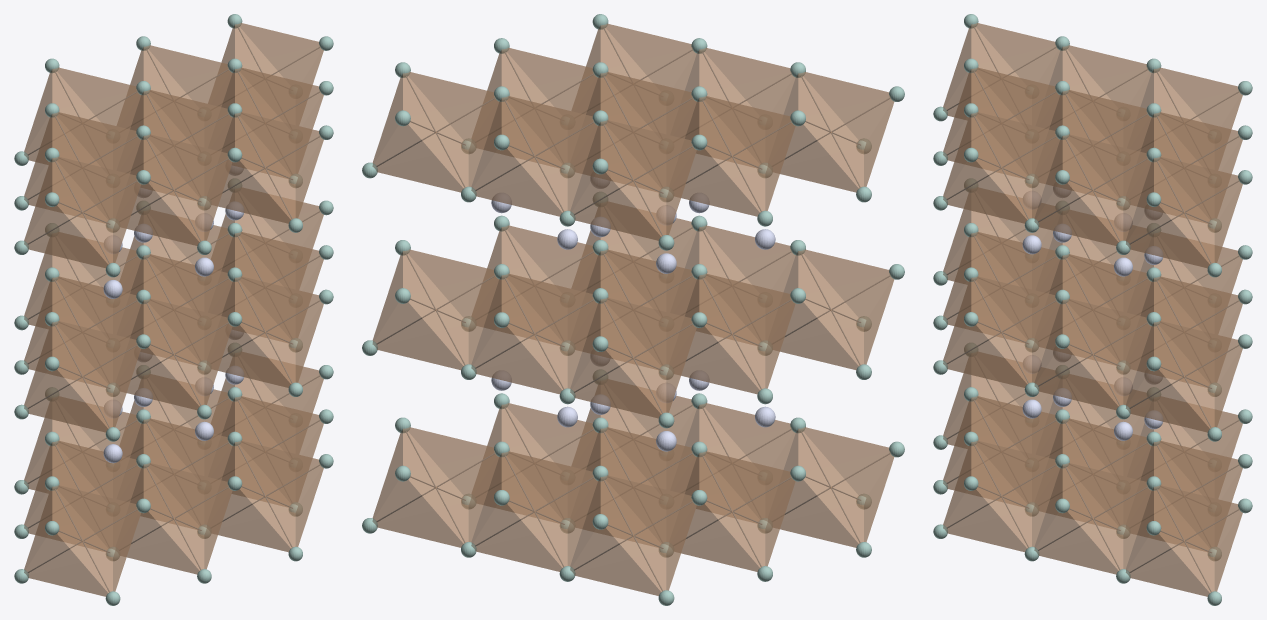
The picture shows the model from 3 angles, left to right: view 1: azimuth 30°, elevation 25°; view 2: azimuth 150°, elevation 25°; view 3: azimuth 270°, elevation 25°; orthographic projection. The views are drawn at different scales.
Visible parts, largest first — view 1: Shape_IndexedFaceSet.016, Shape_IndexedFaceSet.072, Shape_IndexedFaceSet.144, Shape_IndexedFaceSet.080, Shape_IndexedFaceSet.088, Shape_IndexedFaceSet.152, Shape_IndexedFaceSet, Shape_IndexedFaceSet.160, Shape_IndexedFaceSet.008, Shape_IndexedFaceSet.159, Shape_IndexedFaceSet.151, Shape_IndexedFaceSet.167 (+132 smaller); view 2: Shape_IndexedFaceSet.158, Shape_IndexedFaceSet.206, Shape_IndexedFaceSet.062, Shape_IndexedFaceSet.142, Shape_IndexedFaceSet.182, Shape_IndexedFaceSet.070, Shape_IndexedFaceSet.126, Shape_IndexedFaceSet.134, Shape_IndexedFaceSet.150, Shape_IndexedFaceSet.174, Shape_IndexedFaceSet.198, Shape_IndexedFaceSet.214 (+148 smaller); view 3: Shape_IndexedFaceSet.019, Shape_IndexedFaceSet.011, Shape_IndexedFaceSet.059, Shape_IndexedFaceSet.027, Shape_IndexedFaceSet.067, Shape_IndexedFaceSet.035, Shape_IndexedFaceSet.043, Shape_IndexedFaceSet.051, Shape_IndexedFaceSet.003, Shape_IndexedFaceSet.012, Shape_IndexedFaceSet.052, Shape_IndexedFaceSet.060 (+130 smaller).
Boxes of the visible parts, bbox=[...] form: Shape_IndexedFaceSet.016: bbox=[240, 134, 323, 219]; Shape_IndexedFaceSet.072: bbox=[148, 485, 232, 570]; Shape_IndexedFaceSet.144: bbox=[57, 507, 140, 592]; Shape_IndexedFaceSet.080: bbox=[148, 321, 232, 406]; Shape_IndexedFaceSet.088: bbox=[148, 157, 232, 241]; Shape_IndexedFaceSet.152: bbox=[57, 343, 140, 428]; Shape_IndexedFaceSet: bbox=[240, 463, 323, 548]; Shape_IndexedFaceSet.160: bbox=[57, 179, 140, 264]; Shape_IndexedFaceSet.008: bbox=[240, 298, 323, 383]; Shape_IndexedFaceSet.159: bbox=[24, 325, 107, 409]; Shape_IndexedFaceSet.151: bbox=[24, 490, 107, 573]; Shape_IndexedFaceSet.167: bbox=[24, 161, 107, 245]; Shape_IndexedFaceSet.158: bbox=[803, 273, 894, 366]; Shape_IndexedFaceSet.206: bbox=[606, 322, 696, 414]; Shape_IndexedFaceSet.062: bbox=[408, 273, 498, 365]; Shape_IndexedFaceSet.142: bbox=[507, 120, 597, 212]; Shape_IndexedFaceSet.182: bbox=[705, 298, 795, 390]; Shape_IndexedFaceSet.070: bbox=[408, 96, 498, 188]; Shape_IndexedFaceSet.126: bbox=[507, 475, 597, 567]; Shape_IndexedFaceSet.134: bbox=[507, 298, 597, 390]; Shape_IndexedFaceSet.150: bbox=[803, 451, 894, 543]; Shape_IndexedFaceSet.174: bbox=[705, 475, 795, 567]; Shape_IndexedFaceSet.198: bbox=[606, 499, 696, 591]; Shape_IndexedFaceSet.214: bbox=[606, 144, 696, 236]; Shape_IndexedFaceSet.019: bbox=[976, 134, 1059, 219]; Shape_IndexedFaceSet.011: bbox=[976, 299, 1059, 384]; Shape_IndexedFaceSet.059: bbox=[1159, 343, 1242, 428]; Shape_IndexedFaceSet.027: bbox=[1067, 485, 1151, 570]; Shape_IndexedFaceSet.067: bbox=[1159, 179, 1242, 264]; Shape_IndexedFaceSet.035: bbox=[1067, 321, 1151, 406]; Shape_IndexedFaceSet.043: bbox=[1067, 157, 1151, 241]; Shape_IndexedFaceSet.051: bbox=[1159, 507, 1242, 592]; Shape_IndexedFaceSet.003: bbox=[976, 463, 1059, 548]; Shape_IndexedFaceSet.012: bbox=[943, 281, 1026, 365]; Shape_IndexedFaceSet.052: bbox=[1126, 490, 1209, 573]; Shape_IndexedFaceSet.060: bbox=[1126, 325, 1209, 409].
Bounding box in the file's own units: 1517 × 1580 × 1109.
